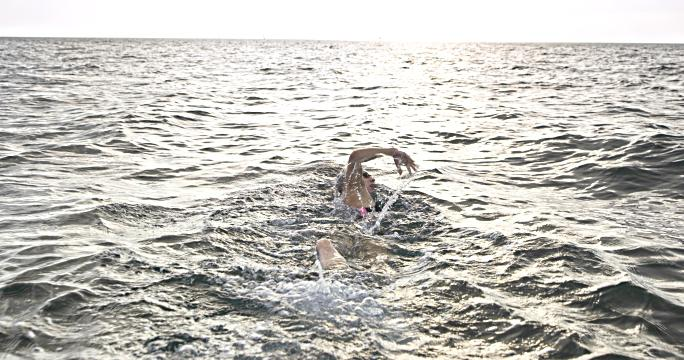human: (318, 146, 420, 274)
